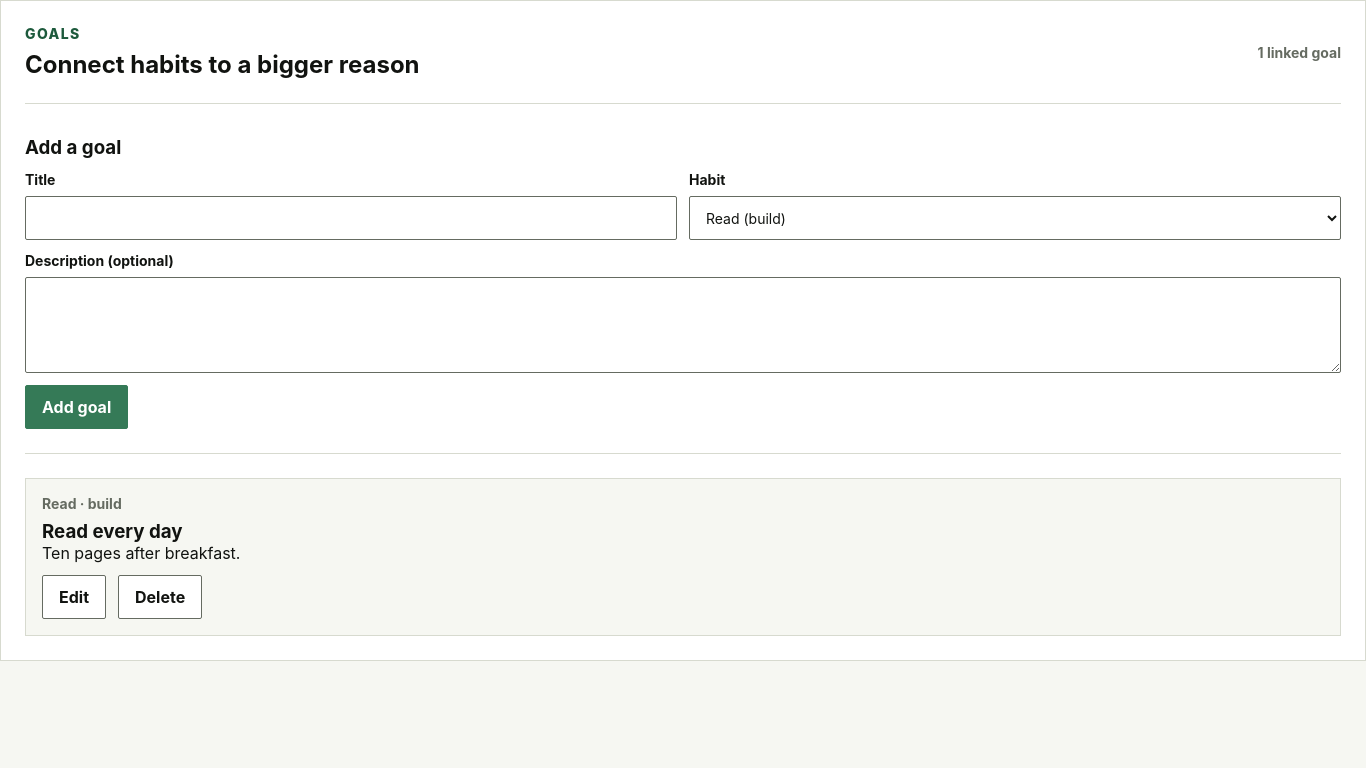
Test: GoalManager › edits and deletes a goal with confirmation
Expected: the element "Read every day" is shown, [25,478,1341,636]
Click the button "Edit".
click(74, 597)  # box [42,575,106,619]
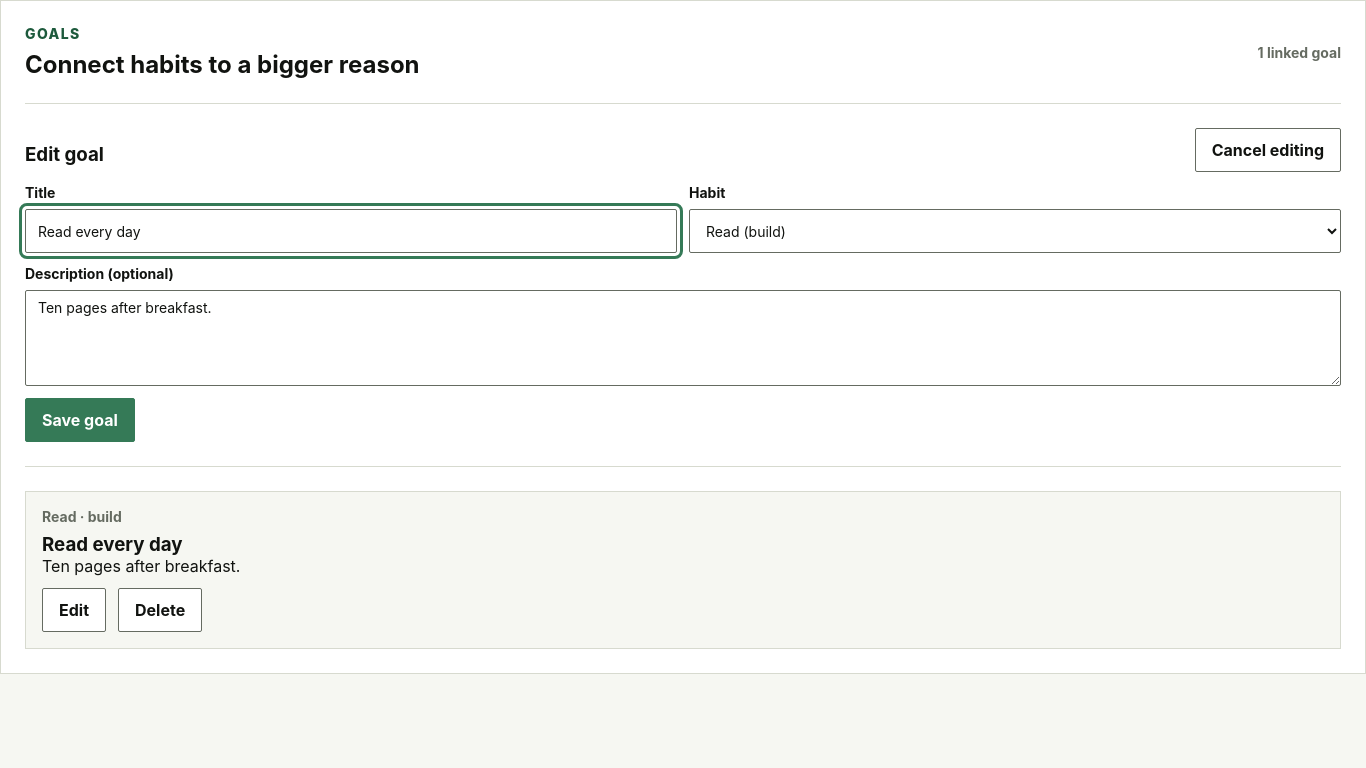
Replace the text in the field labelled "Title" with "Read with focus" at (351, 231), box [25,209,677,253]
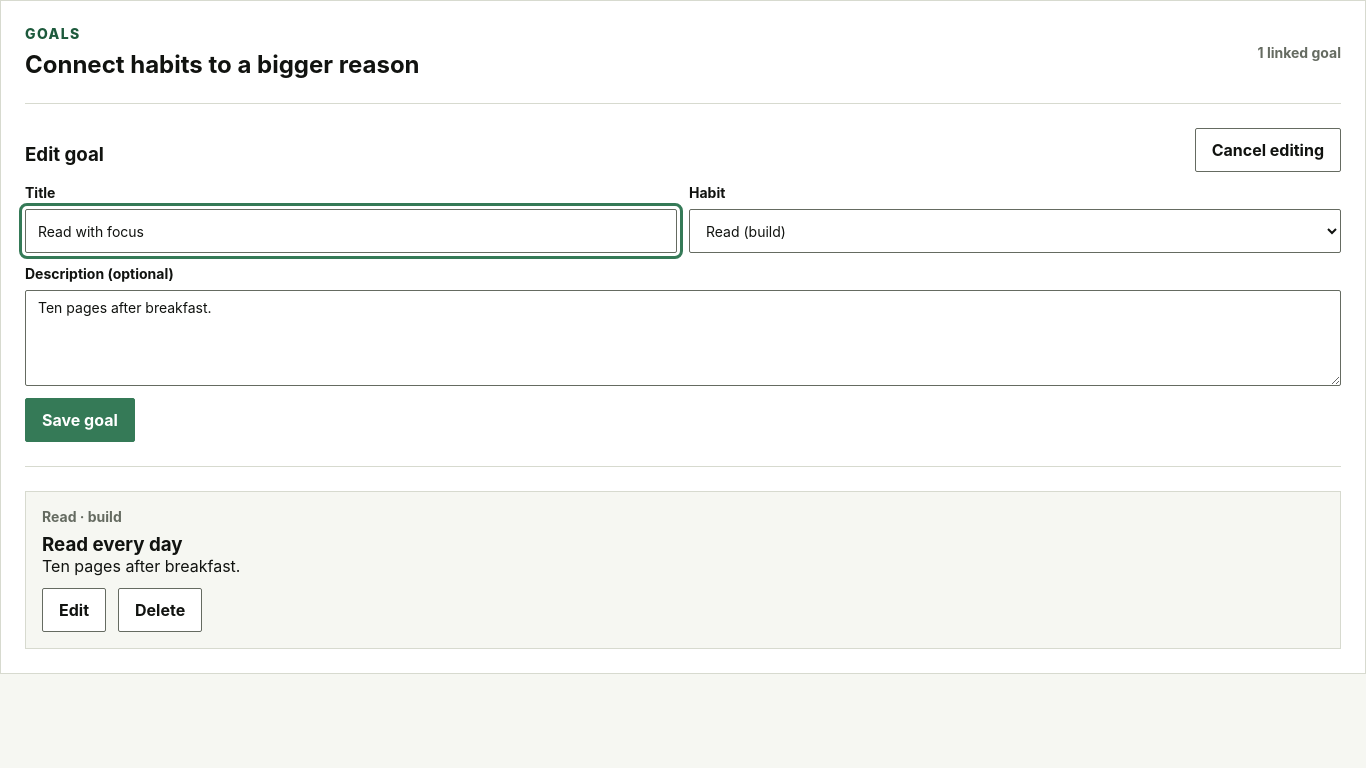
Click the button "Save goal".
click(80, 420)  # box [25,398,135,442]
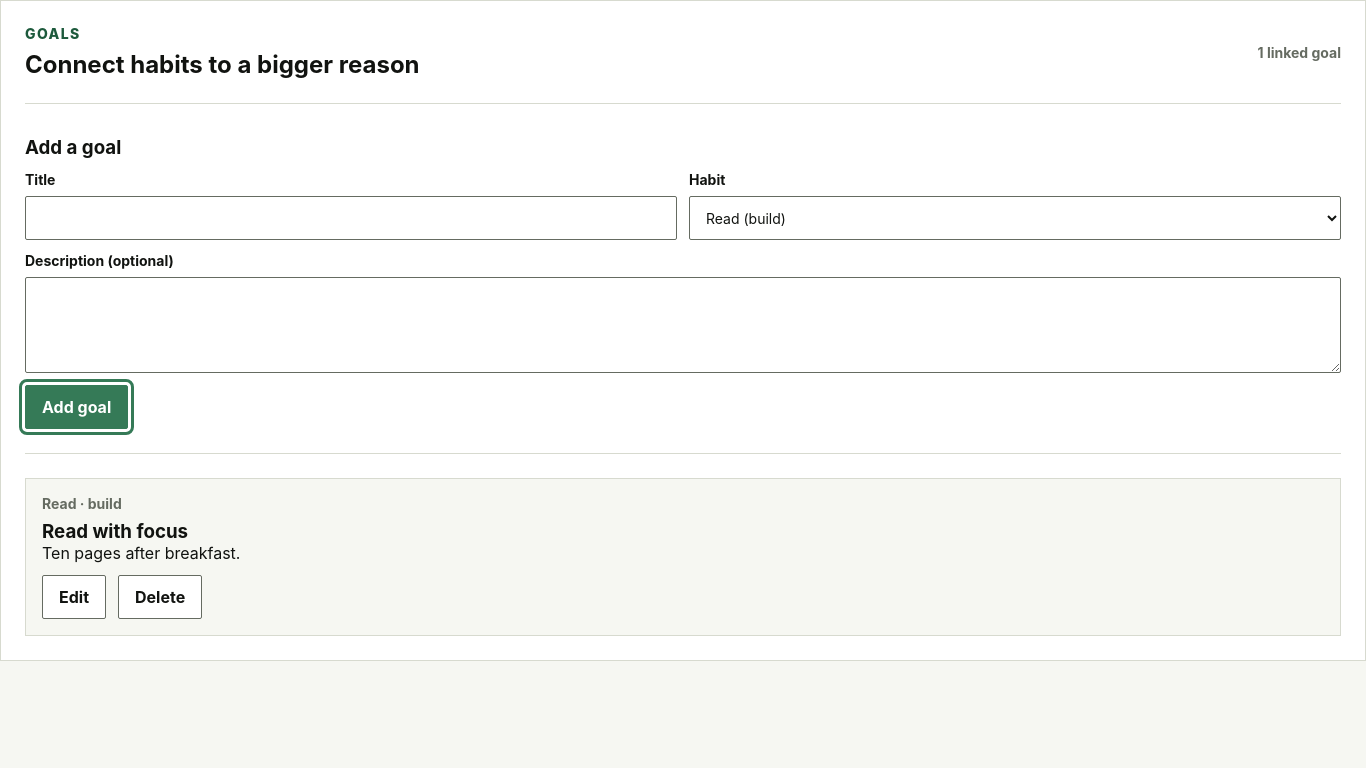
Expected: the heading "Read with focus" is shown, [42,520,188,543]
Click the button "Delete".
click(160, 597)  # box [118,575,202,619]
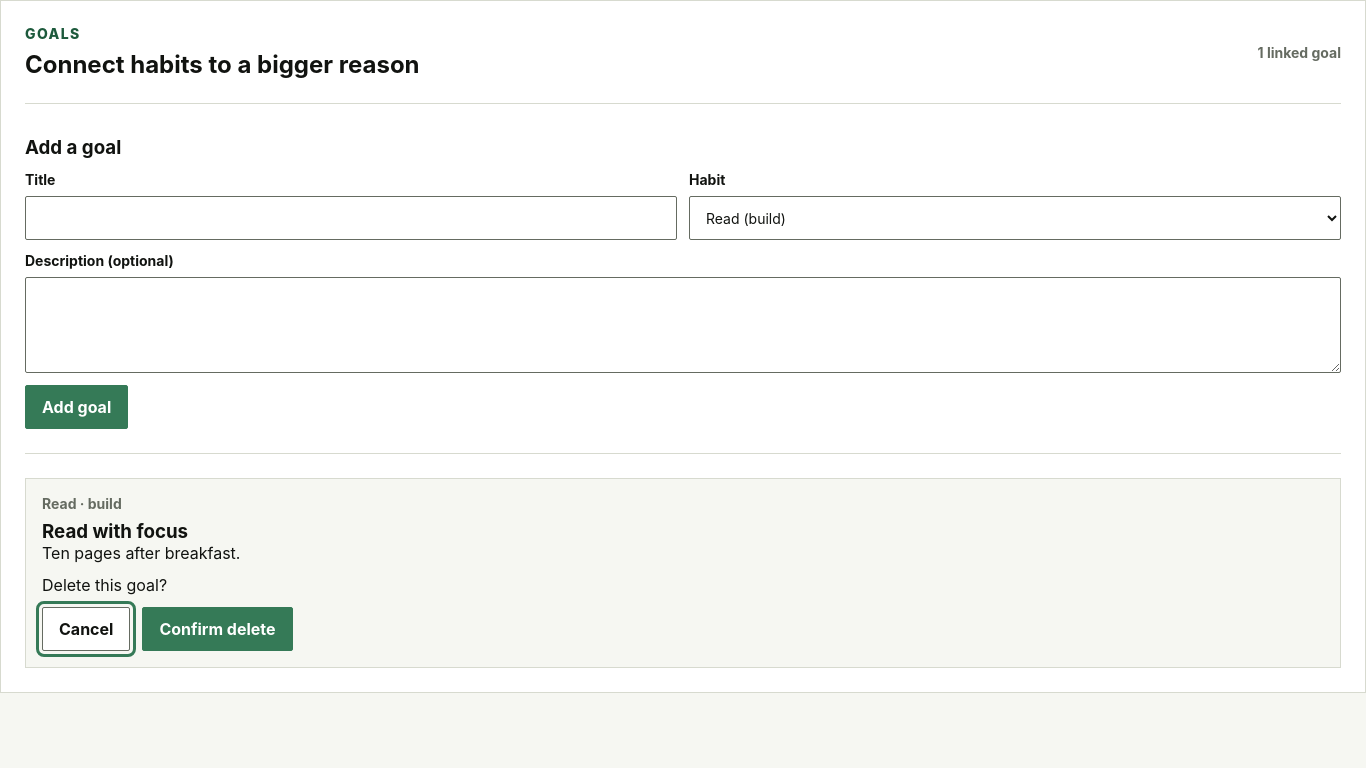
Click the button "Confirm delete".
click(218, 629)  # box [142,607,293,651]
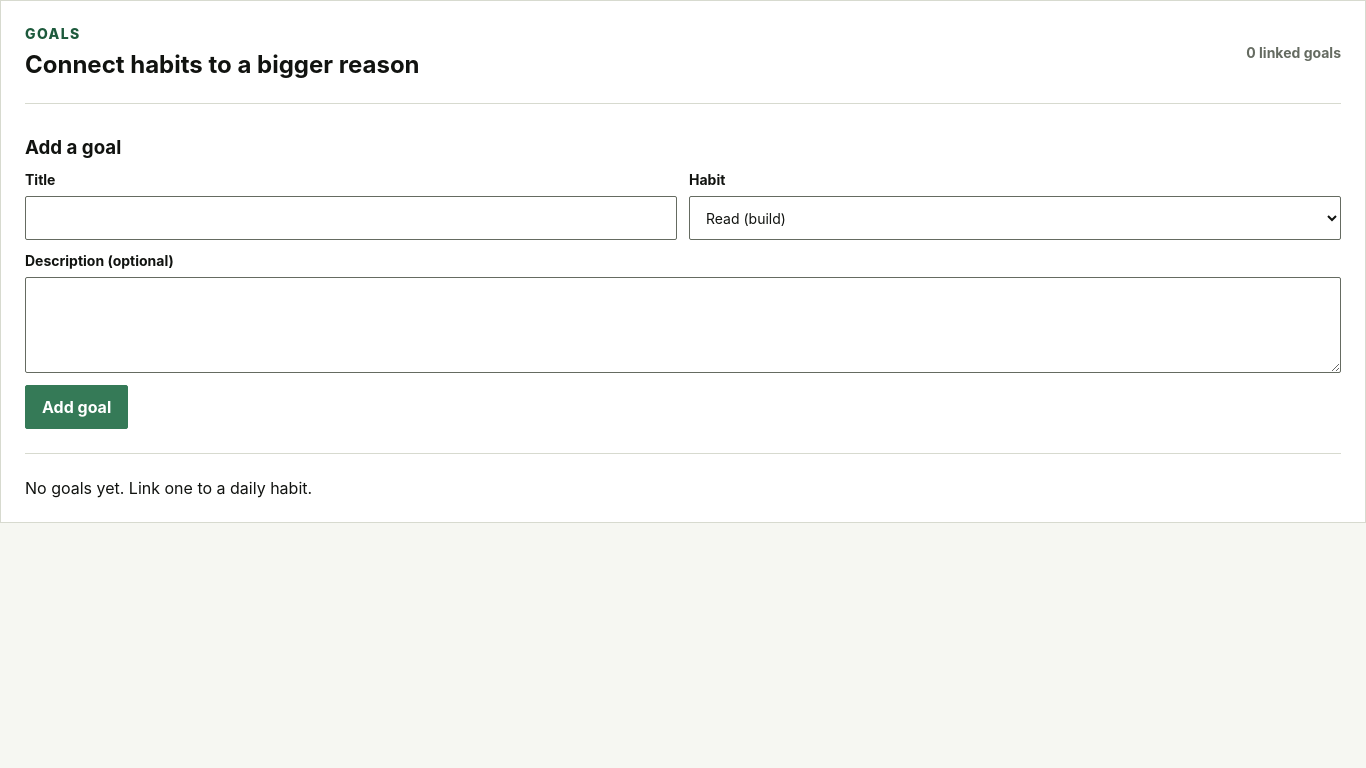
Expected: the heading "Read with focus" is gone
